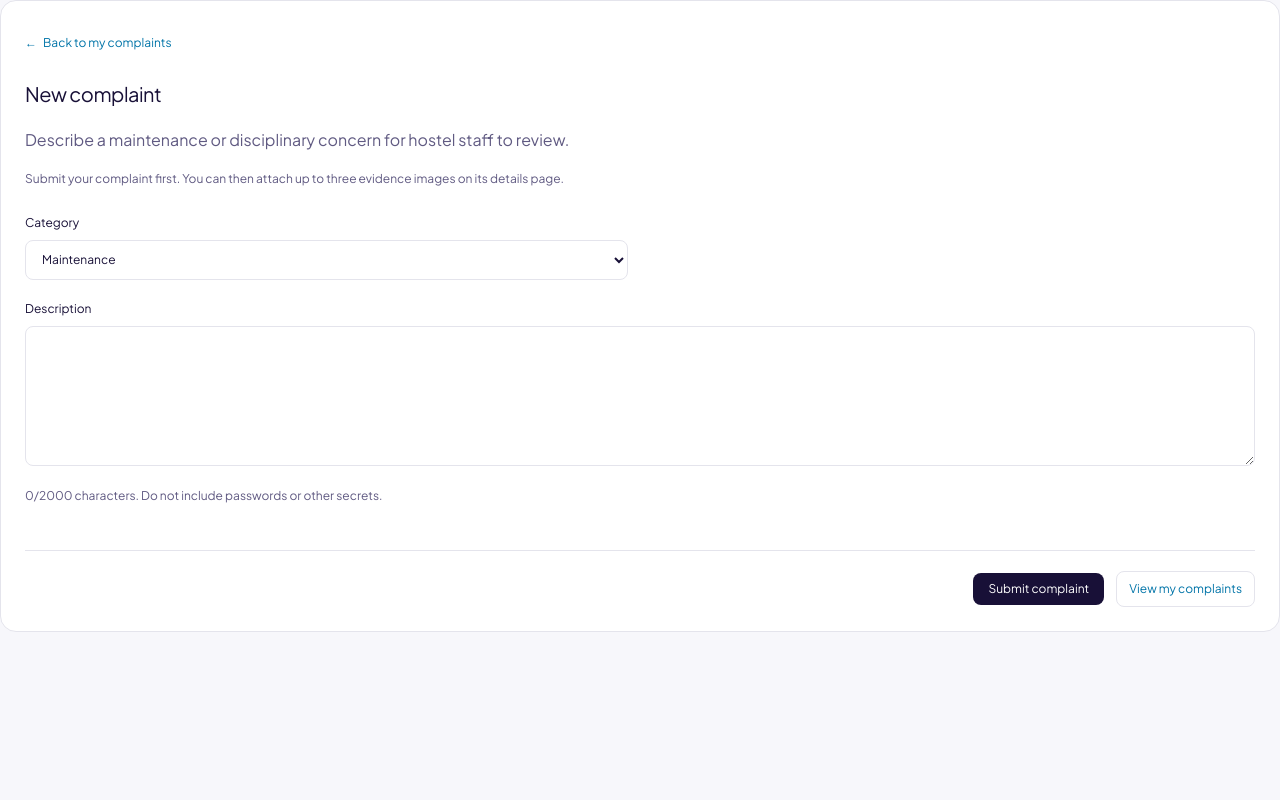
Scenario: preserves a rejected creation draft and permits correction
Type "Window latch needs repair" into the text box labelled "Description" at (640, 396), box [25,326,1255,466]
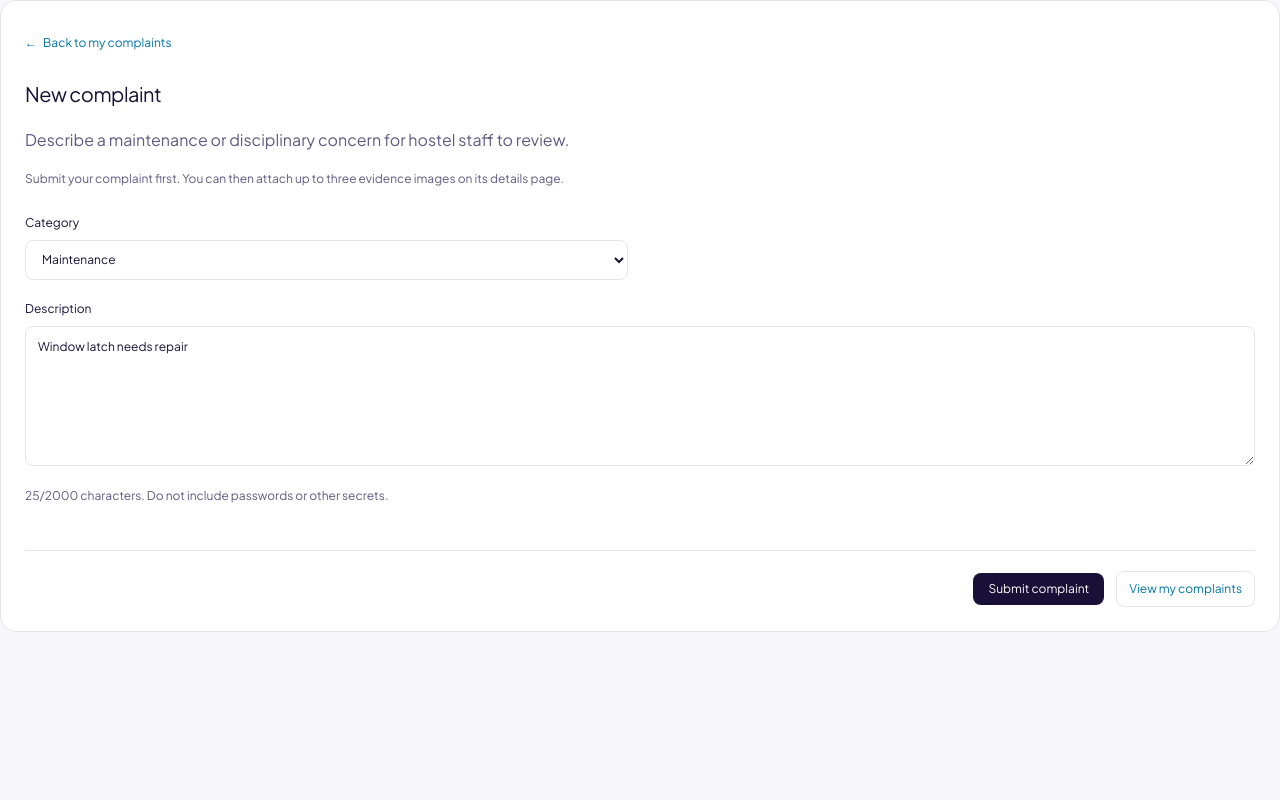
Click the button "Submit complaint" at (1039, 589), box [973,573,1104,605]
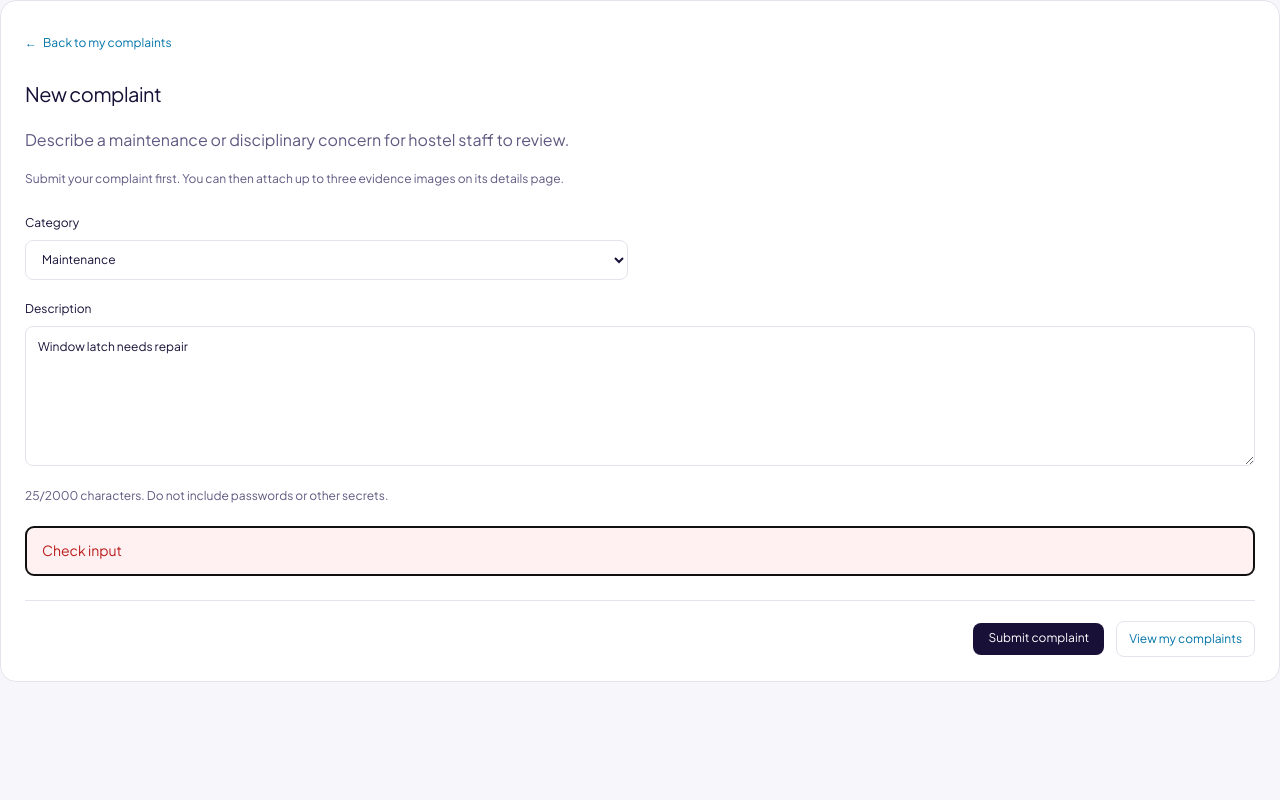
Expected: the text box labelled "Description" is enabled, [25,326,1255,466]
Result: the message reads "Check input" at [42,541,122,559]
